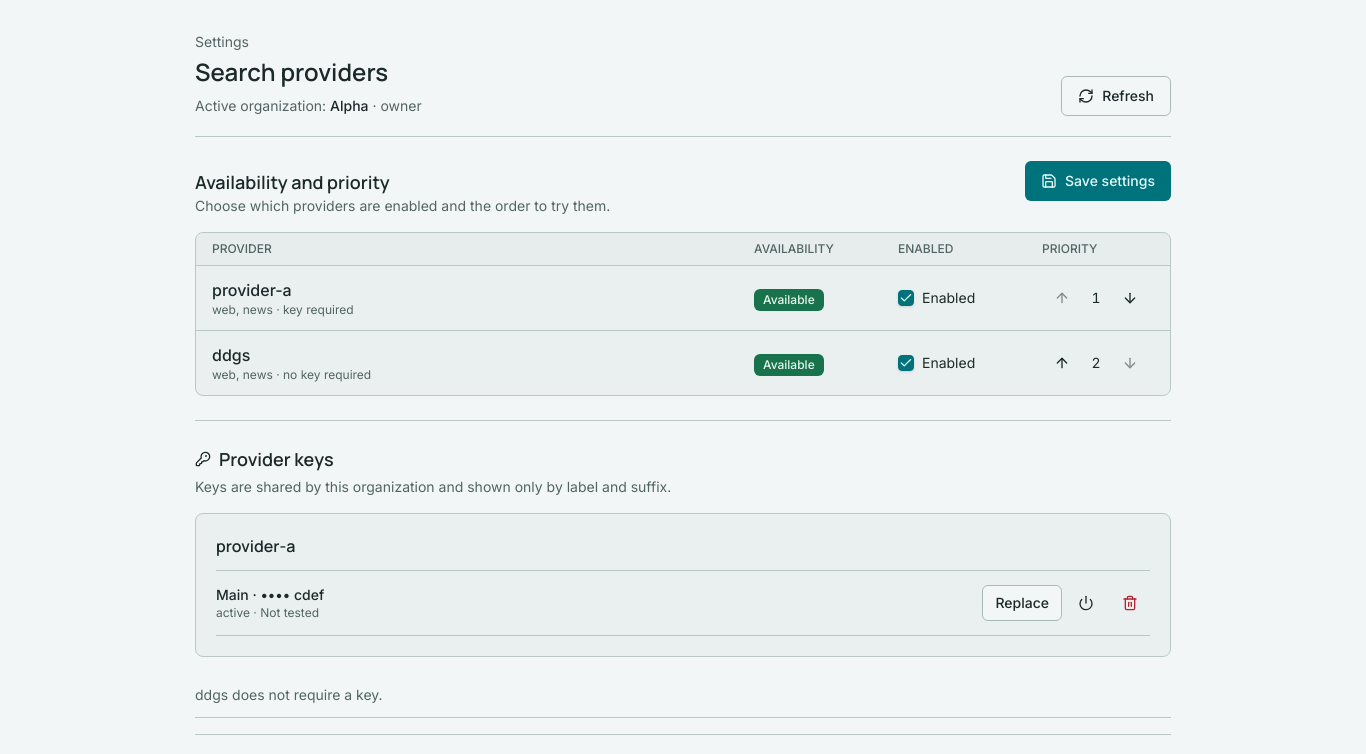
Search settings page › requires an explicit dialog action before deleting a key
The image size is (1366, 754).
expect the text "Main · •••• cdef" is shown: met, box x1=216 y1=585 x2=324 y2=605
Click the button named "Delete Main" at (1130, 603), box x1=1110 y1=583 x2=1150 y2=623
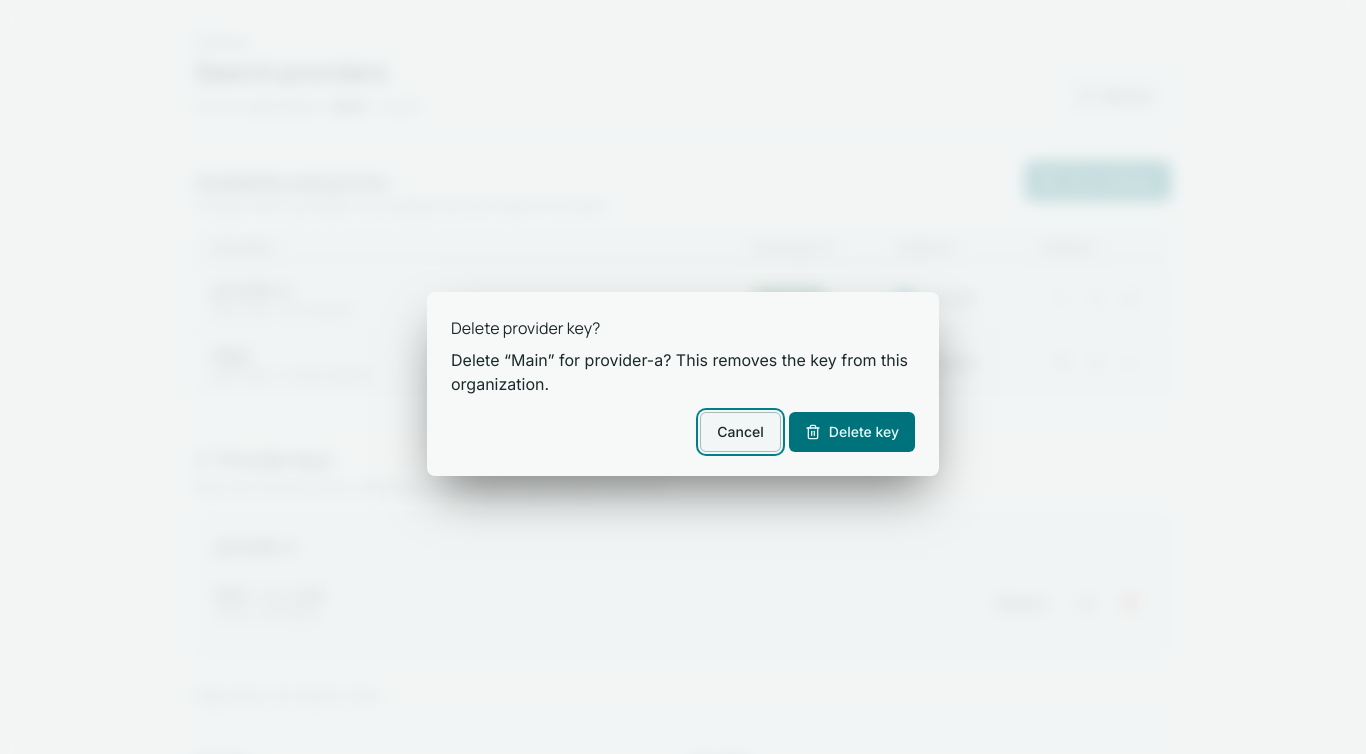
expect the dialog is shown: met, box x1=427 y1=292 x2=939 y2=476
Click the button "Delete key" at (852, 432), box x1=789 y1=412 x2=915 y2=452
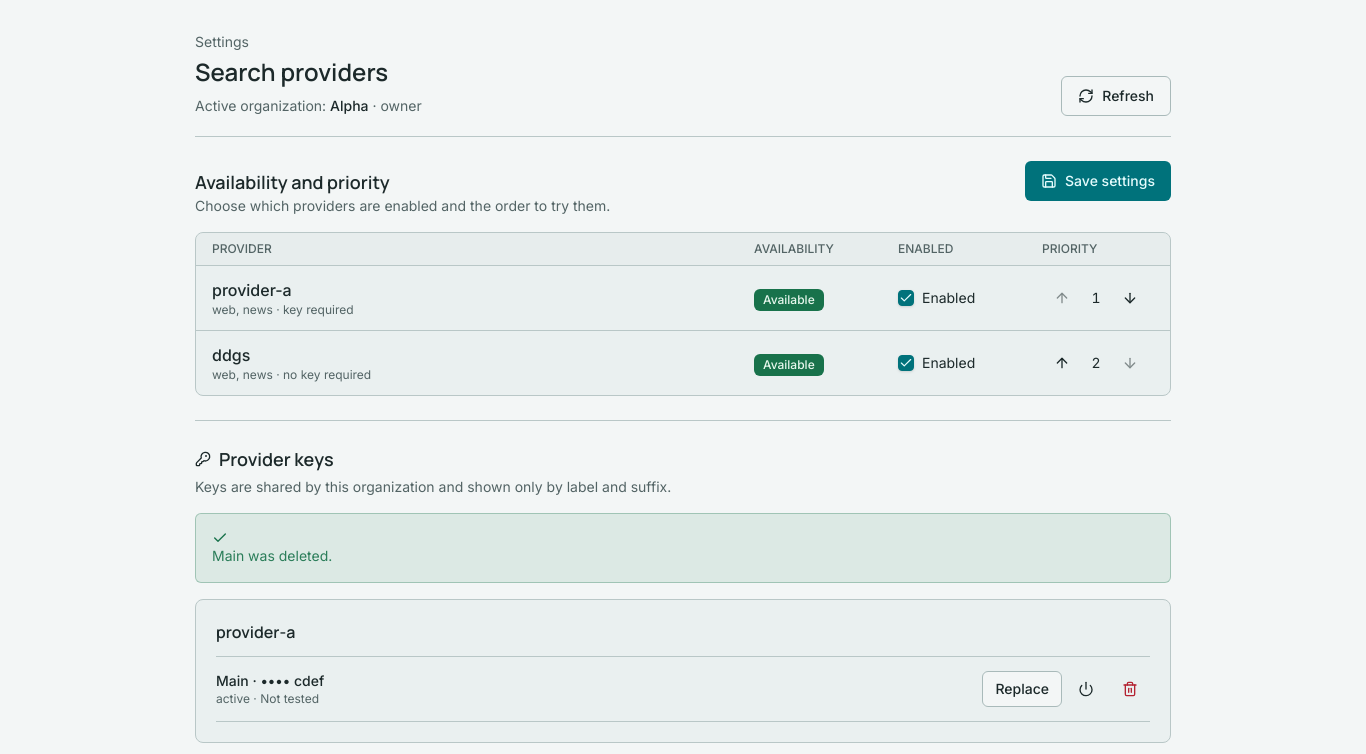
expect the text "Main was deleted." is shown: met, box x1=212 y1=547 x2=332 y2=564
